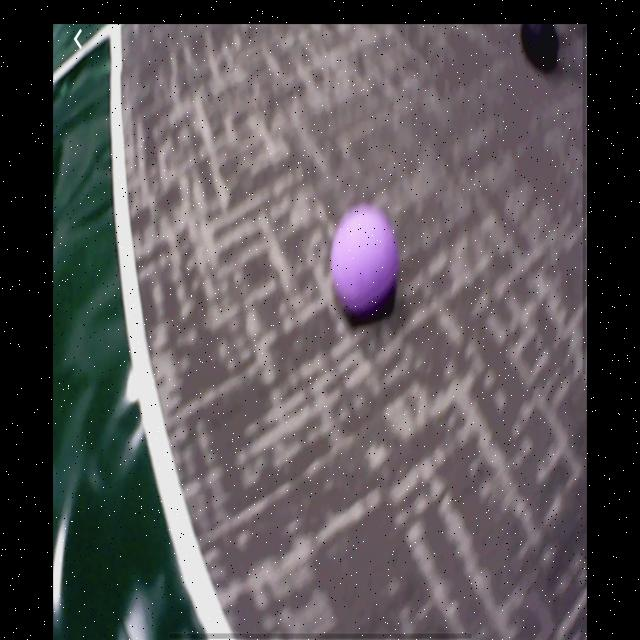ball: (330, 204, 401, 327)
